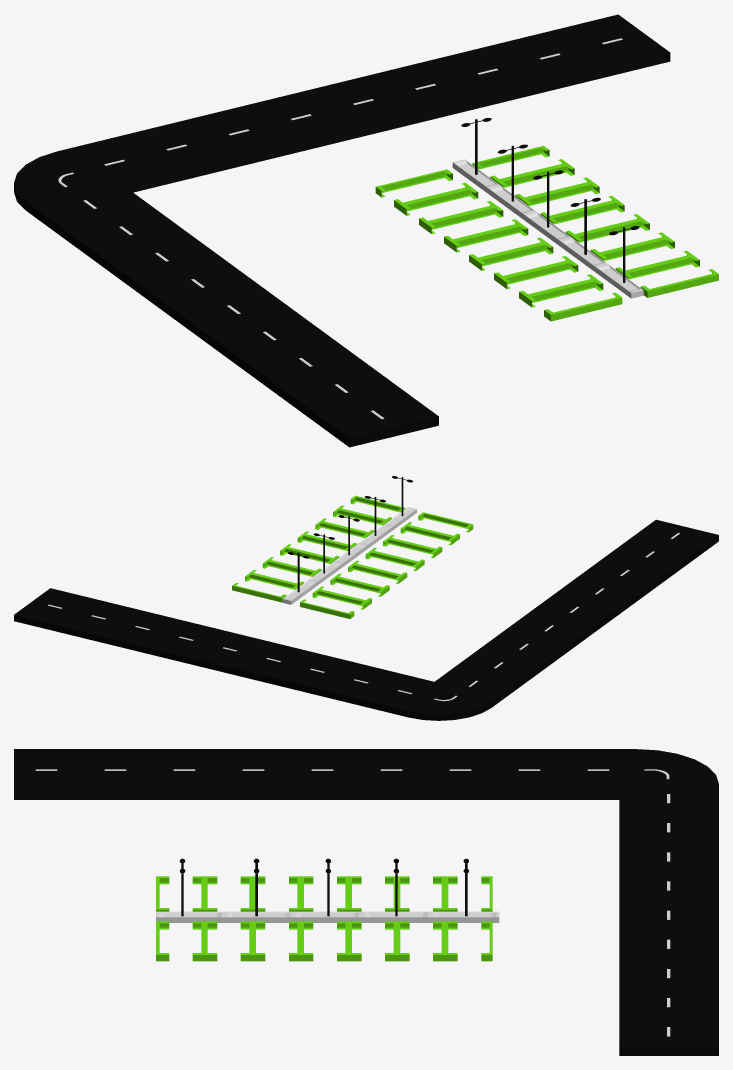
Rendered from parking.fbx.
3 views of the same model, one above another, from view 1: azimuth 30°, elevation 25°; view 2: azimuth 150°, elevation 25°; view 3: azimuth 270°, elevation 25° (orthographic). The views are drawn at different scales.
Visible parts, largest first — view 1: Cube, Plane.002, Plane.001, BangkuJalan; view 2: Cube, Plane.002, Plane.001, BangkuJalan; view 3: Cube, Plane.001, BangkuJalan, Plane.002.
Boxes of the visible parts, left/top/right/bottom form: Cube: left=14, top=14, right=670, bottom=447; Plane.002: left=375, top=169, right=622, bottom=321; Plane.001: left=472, top=145, right=718, bottom=297; BangkuJalan: left=452, top=159, right=643, bottom=298; Cube: left=14, top=519, right=718, bottom=720; Plane.002: left=300, top=512, right=473, bottom=618; Plane.001: left=232, top=495, right=405, bottom=602; BangkuJalan: left=282, top=507, right=416, bottom=604; Cube: left=14, top=749, right=718, bottom=1055; Plane.001: left=156, top=921, right=492, bottom=961; BangkuJalan: left=156, top=911, right=499, bottom=922; Plane.002: left=156, top=876, right=492, bottom=911.
Size of the model in its own units: 479 by 48.19 by 479.
